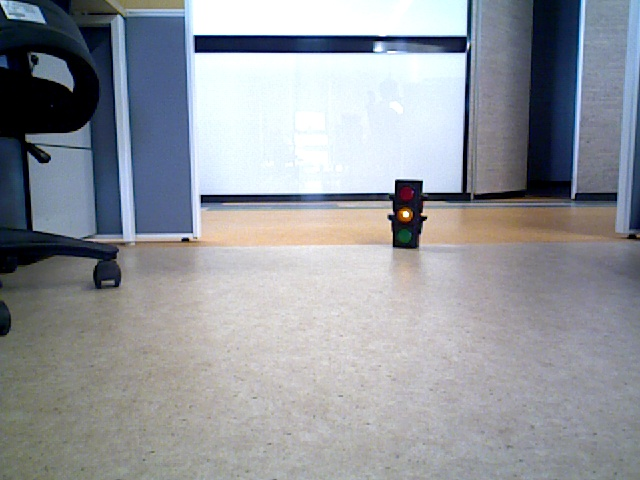yellow: (396, 182, 417, 246)
